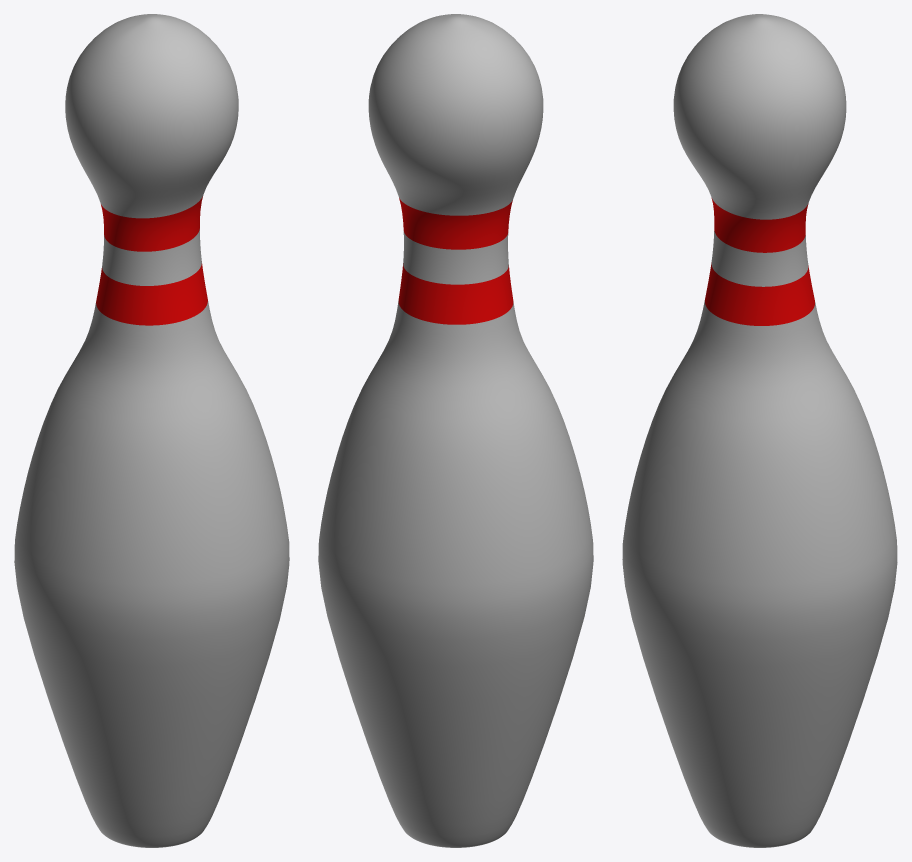
The model's file is DM_Pine.fbx.
3 renders of one model, left to right at view 1: azimuth 30°, elevation 25°; view 2: azimuth 150°, elevation 25°; view 3: azimuth 270°, elevation 25°, orthographic.
Visible parts, largest first — view 1: DM_Pine; view 2: DM_Pine; view 3: DM_Pine.
Part boxes in pixels (<box>): DM_Pine: <box>14,14,289,847</box>; DM_Pine: <box>318,14,593,847</box>; DM_Pine: <box>622,14,897,847</box>.
Size of the model in its own units: 11.91 by 38.57 by 11.91.
